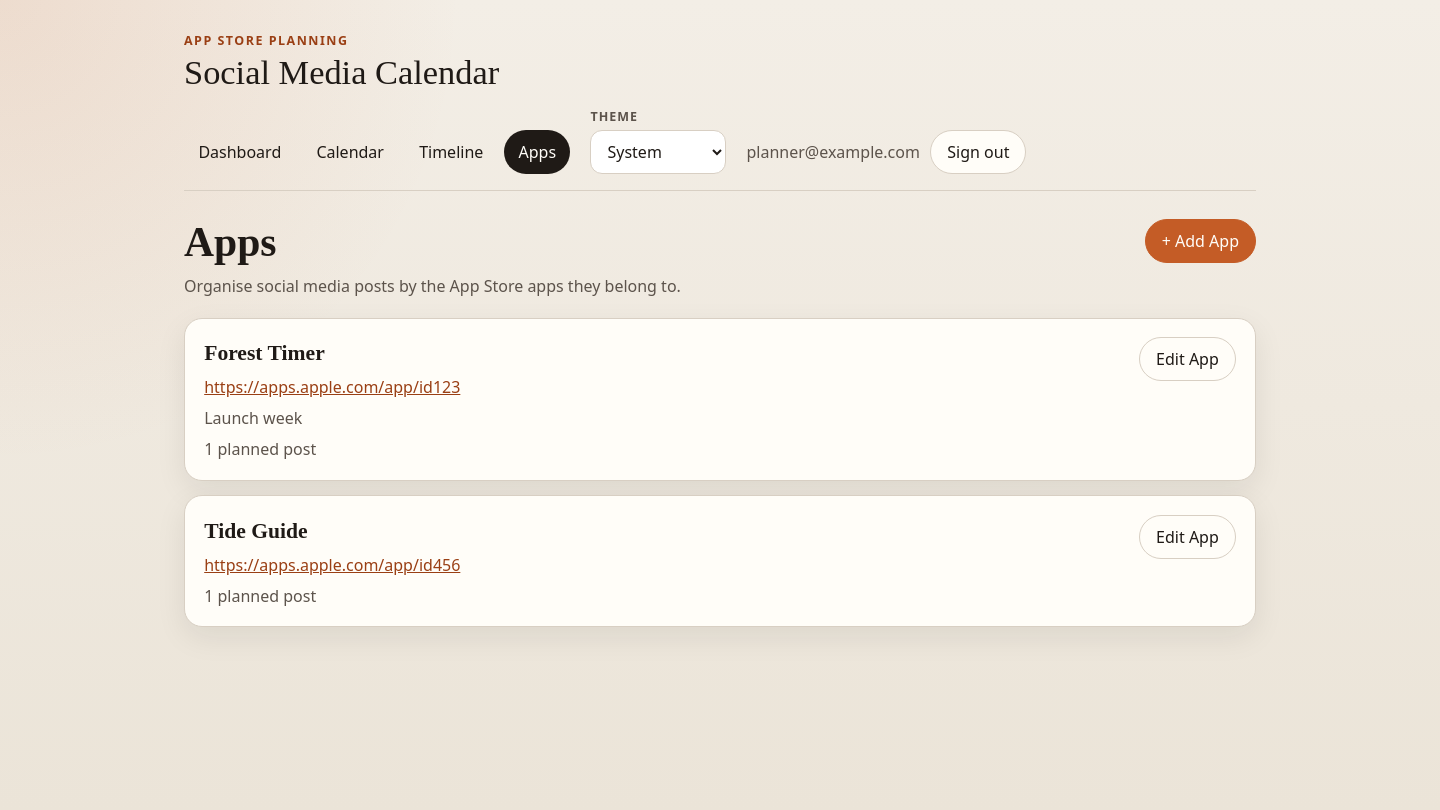
Test: B-015 app details and app-specific posts › opens app details from the Apps page and shows that app's posts
Check: the text "1 planned post" is shown 2 times, box [204, 438, 316, 460]; [204, 585, 316, 607]
Click the link "Forest Timer" at {"x": 264, "y": 353}, box [204, 341, 325, 365]
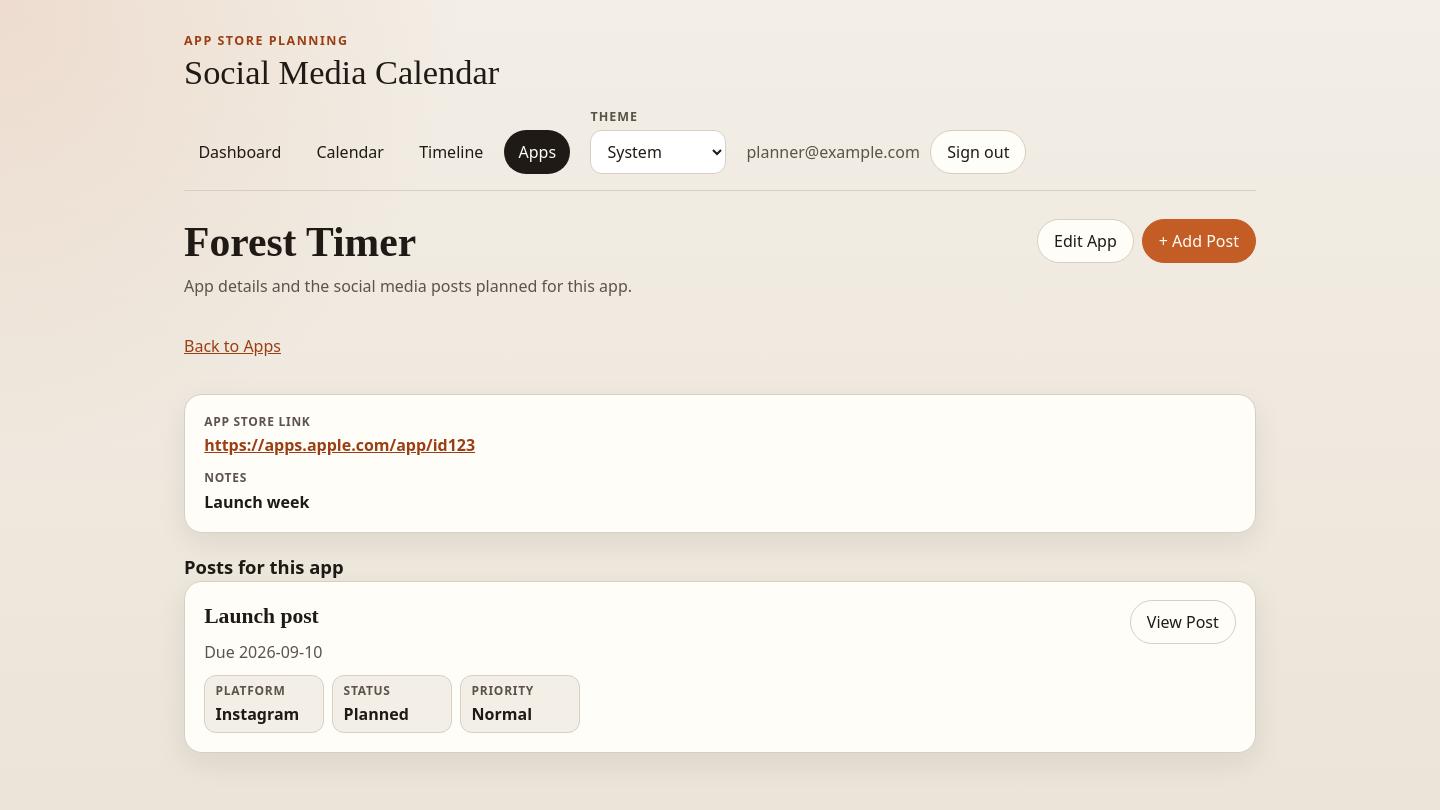
Check: the text "Launch week" is shown, box [204, 491, 309, 513]
Check: the heading "Forest Timer" is shown, box [184, 220, 416, 266]
Check: the heading "Launch post" is shown, box [204, 604, 319, 628]
